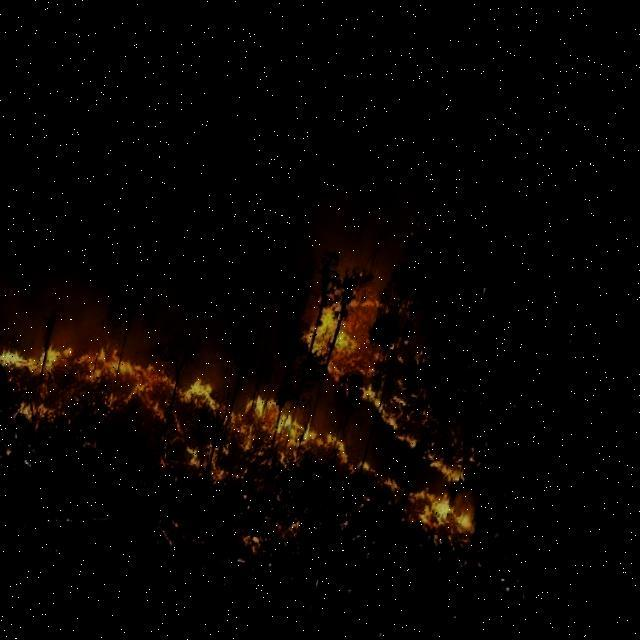Fire: (0, 206, 528, 585)
